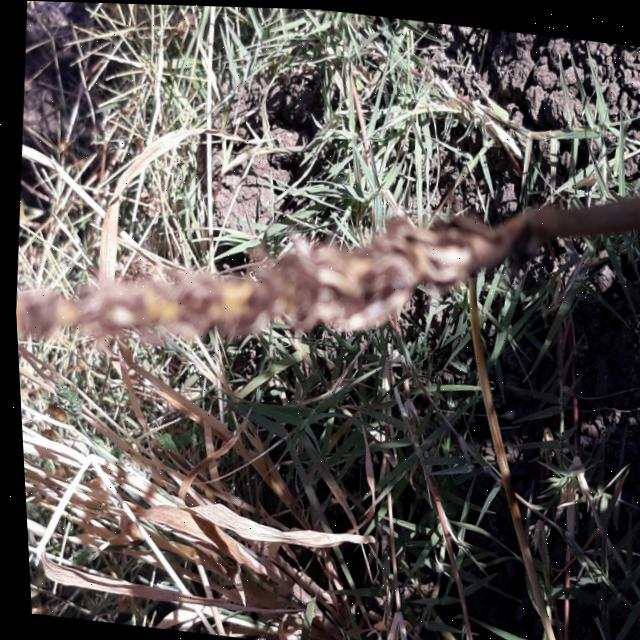loose_charred: (3, 82, 640, 451)
